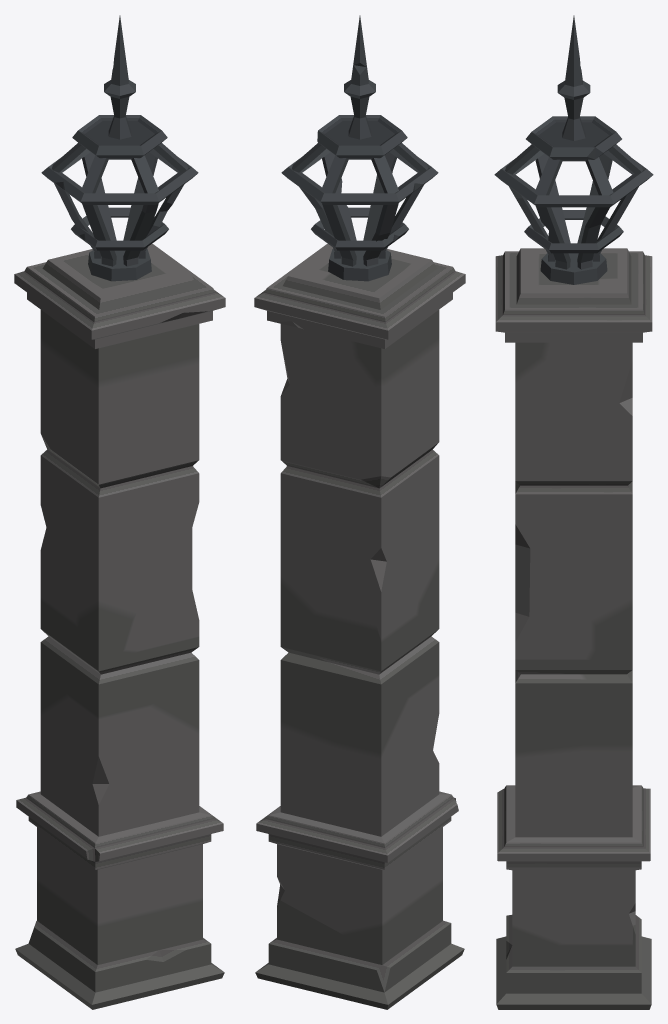
Rendered from SM_Bld_Fence_Pillar_02.fbx.
3 views of the same model, side by side, from view 1: azimuth 30°, elevation 25°; view 2: azimuth 150°, elevation 25°; view 3: azimuth 270°, elevation 25° (orthographic).
Visible parts, largest first — view 1: SM_Bld_Fence_Pillar_02; view 2: SM_Bld_Fence_Pillar_02; view 3: SM_Bld_Fence_Pillar_02.
Boxes of the visible parts, x1=… form: SM_Bld_Fence_Pillar_02: x1=14, y1=15, x2=225, y2=1009; SM_Bld_Fence_Pillar_02: x1=254, y1=15, x2=465, y2=1009; SM_Bld_Fence_Pillar_02: x1=494, y1=15, x2=653, y2=1009.
Size of the model in its own units: 80.11 by 547 by 81.73.
